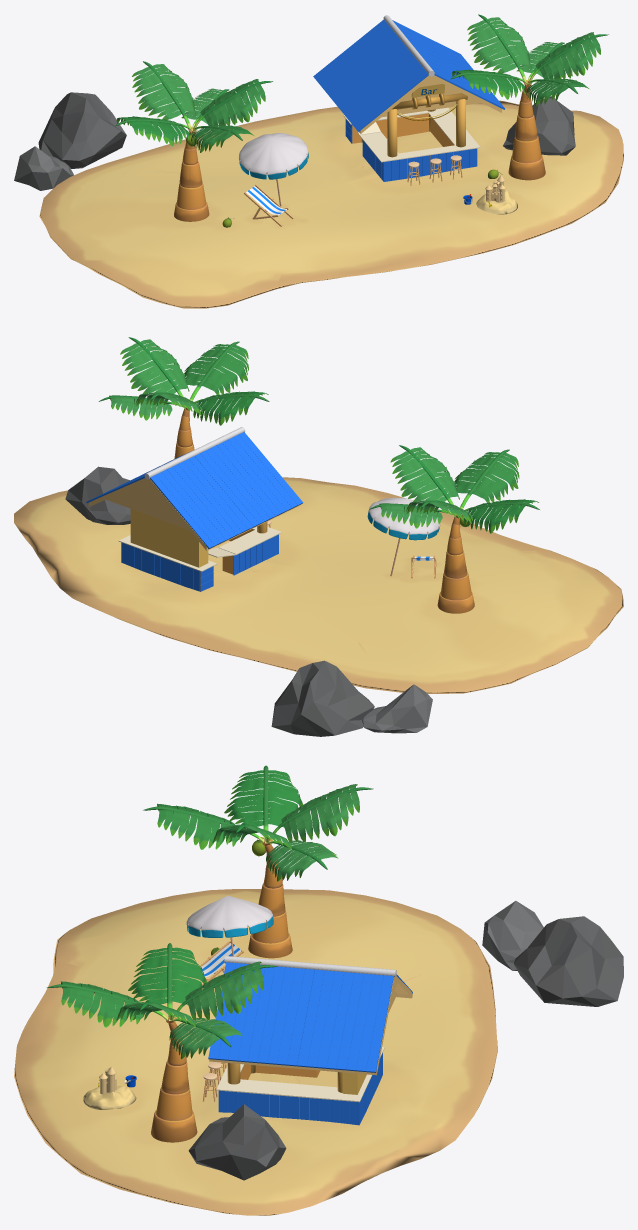
File: Map.fbx
The picture shows the model from 3 angles, top to bottom: view 1: azimuth 30°, elevation 25°; view 2: azimuth 150°, elevation 25°; view 3: azimuth 270°, elevation 25°; orthographic projection. The views are drawn at different scales.
Parts seen in each view (by area): view 1: Sphere, Cube.075, Stone_1, umbrella, blade.003, blade.007, Cube.056, Stone_2, coconut tree.001, Cube.004, Cylinder.012, coconut tree (+13 smaller); view 2: Sphere, Cube.075, Stone_1, Cube.056, Cylinder.012, Cube.006, blade.009, blade, Stone_2, Stone_3, blade.001, blade.005 (+10 smaller); view 3: Sphere, Cube.075, Stone_1, Stone_2, Cube.056, coconut tree.001, blade.006, blade.004, umbrella, Stone_3, blade.007, blade.003 (+11 smaller).
Boxes of the visible parts, x1,y1,x2,y2 form: Sphere: [39, 100, 623, 308]; Cube.075: [313, 19, 504, 131]; Stone_1: [38, 92, 126, 168]; umbrella: [239, 133, 308, 179]; blade.003: [132, 64, 195, 119]; blade.007: [467, 17, 531, 73]; Cube.056: [345, 119, 477, 181]; Stone_2: [503, 96, 575, 155]; coconut tree.001: [508, 85, 545, 180]; Cube.004: [343, 107, 480, 162]; Cylinder.012: [359, 15, 501, 133]; coconut tree: [174, 132, 209, 221]; Sphere: [14, 477, 623, 693]; Cube.075: [86, 432, 303, 548]; Stone_1: [271, 660, 374, 736]; Cube.056: [121, 534, 278, 591]; Cylinder.012: [88, 427, 300, 550]; Cube.006: [130, 509, 208, 567]; blade.009: [120, 339, 189, 400]; blade: [390, 447, 459, 507]; Stone_2: [65, 466, 130, 524]; Stone_3: [361, 684, 432, 733]; blade.001: [454, 452, 519, 502]; blade.005: [184, 344, 248, 394]; Sphere: [14, 889, 497, 1215]; Cube.075: [208, 962, 412, 1072]; Stone_1: [514, 916, 623, 1006]; Stone_2: [188, 1104, 286, 1180]; Cube.056: [218, 1052, 382, 1125]; coconut tree.001: [151, 1022, 197, 1142]; blade.006: [128, 947, 206, 1004]; blade.004: [224, 770, 303, 827]; umbrella: [186, 895, 273, 937]; Stone_3: [482, 901, 543, 970]; blade.007: [185, 961, 263, 1020]; blade.003: [281, 784, 359, 843].
Size of the model in its own units: 19921 by 5659 by 15590.
Materials: 50 (34 with a texture image).
